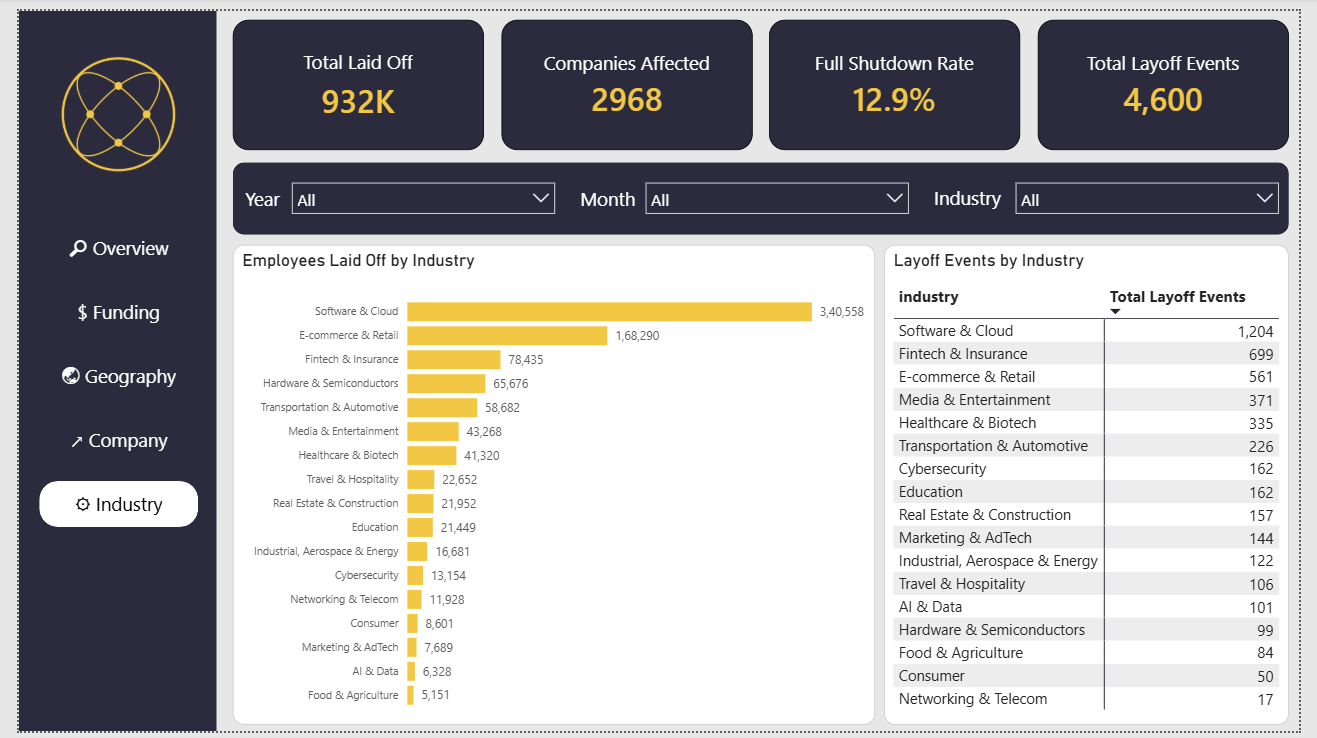

This screenshot's page, from the dashboard's own definition file:
{"tool":"powerbi","page":{"name":"⚙ Industry","canvas":[1280,720],"ordinal":4},"visuals":[{"type":"shape","box":[0,0,197.5,720],"z":0},{"type":"cardVisual","fields":{"Data":["Layoff Measures.Total Laid Off"]},"box":[213.5,8.8,251,130.4],"z":0,"group":"g2"},{"type":"shape","box":[213.8,151.2,1056.2,72.5],"z":0,"group":"g5"},{"type":"group","id":"g1","title":"Group 2","box":[221.2,161.1,324.1,49.5],"z":0,"group":"g7"},{"type":"group","id":"g2","title":"Group 1","box":[213.5,8.8,1056,130.4],"z":1000},{"type":"cardVisual","fields":{"Data":["Layoff Measures.Total Layoff Events"]},"box":[1018.5,8.8,251,130.4],"z":1000,"group":"g2"},{"type":"group","id":"g3","title":"Group 4","box":[556.5,161.1,343.8,49.5],"z":1000,"group":"g7"},{"type":"cardVisual","fields":{"Data":["General Measures.Companies Affected"]},"box":[481.7,9.2,251.2,130],"z":2000,"group":"g2"},{"type":"group","id":"g4","title":"Group 5","box":[910.3,161.1,359.4,50.7],"z":2000,"group":"g7"},{"type":"pageNavigator","box":[11.2,205,177.5,322.5],"z":2000},{"type":"cardVisual","fields":{"Data":["General Measures.Full Shutdowns % (Disclosed)"]},"box":[750.3,8.8,251,130.4],"z":3000,"group":"g2"},{"type":"image","box":[6.2,22.5,186.2,161.2],"z":3000},{"type":"clusteredBarChart","title":"Employees Laid Off by Industry","fields":{"Category":["dim_industry.industry"],"Y":["Layoff Measures.Total Laid Off"]},"box":[213.8,233.8,642.5,480],"z":4000},{"type":"group","id":"g5","title":"Group 7","box":[213.8,151.2,1056.2,72.5],"z":5000},{"type":"pivotTable","title":"Layoff Events by Industry","fields":{"Rows":["dim_industry.industry"],"Values":["Layoff Measures.Total Layoff Events"]},"box":[865,233.8,405,480],"z":6000},{"type":"textbox","box":[556.5,169.8,82.9,35.9],"z":7002,"group":"g3"},{"type":"slicer","fields":{"Values":["dim_date.Year"]},"box":[262,161.1,283.3,49.5],"z":8000,"group":"g6"},{"type":"slicer","fields":{"Values":["dim_date.month_name"]},"box":[617,161.1,283.3,49.5],"z":8000,"group":"g3"},{"type":"slicer","fields":{"Values":["dim_industry.industry"]},"box":[986.5,161.1,283.3,50.7],"z":8000,"group":"g4"},{"type":"group","id":"g6","title":"Group 3","box":[221.2,161.1,324.1,49.5],"z":8001,"group":"g1"},{"type":"textbox","box":[910.3,168.5,92.8,35.9],"z":9000,"group":"g4"},{"type":"textbox","box":[221.2,169.9,65,36.2],"z":9001,"group":"g6"},{"type":"group","id":"g7","title":"Group 6","box":[221.2,161.1,1048.5,50.7],"z":9003,"group":"g5"}]}

Visuals, with their boxes in screenshot pixels (x1, y1, x2, y2), scaled from the page's 1280x720 canvas onto the 1317x738 screenshot:
shape: select_region(0, 0, 203, 737)
cardVisual - Layoff Measures.Total Laid Off: select_region(220, 9, 478, 143)
shape: select_region(220, 155, 1307, 229)
"Group 2" group: select_region(228, 165, 561, 216)
"Group 1" group: select_region(220, 9, 1306, 143)
cardVisual - Layoff Measures.Total Layoff Events: select_region(1048, 9, 1306, 143)
"Group 4" group: select_region(573, 165, 926, 216)
cardVisual - General Measures.Companies Affected: select_region(496, 9, 754, 143)
"Group 5" group: select_region(937, 165, 1306, 217)
pageNavigator: select_region(12, 210, 194, 541)
cardVisual - General Measures.Full Shutdowns % (Disclosed): select_region(772, 9, 1030, 143)
image: select_region(6, 23, 198, 188)
"Employees Laid Off by Industry" clusteredBarChart: select_region(220, 240, 881, 732)
"Group 7" group: select_region(220, 155, 1307, 229)
"Layoff Events by Industry" pivotTable: select_region(890, 240, 1307, 732)
textbox: select_region(573, 174, 658, 211)
slicer - dim_date.Year: select_region(270, 165, 561, 216)
slicer - dim_date.month_name: select_region(635, 165, 926, 216)
slicer - dim_industry.industry: select_region(1015, 165, 1307, 217)
"Group 3" group: select_region(228, 165, 561, 216)
textbox: select_region(937, 173, 1032, 210)
textbox: select_region(228, 174, 294, 211)
"Group 6" group: select_region(228, 165, 1306, 217)
